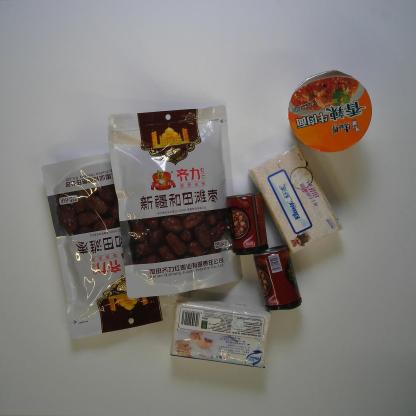Canned Food: (253, 245, 303, 313), (223, 191, 270, 256)
Dried Food: (106, 104, 245, 300), (38, 151, 175, 341)
Instant Noodles: (287, 69, 373, 154)
Tissue: (245, 144, 343, 255), (167, 296, 272, 370)
